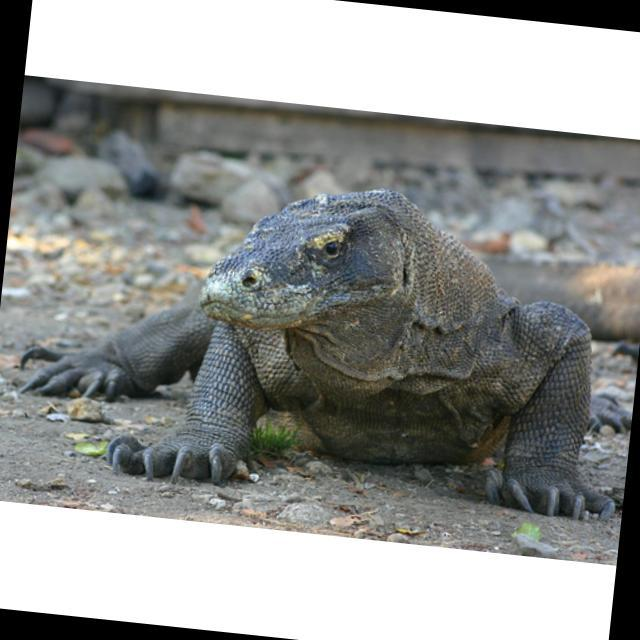KomodoDragon: (8, 148, 640, 528)
